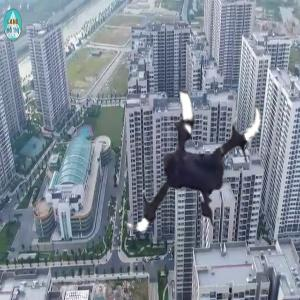drone: (99, 67, 279, 247)
